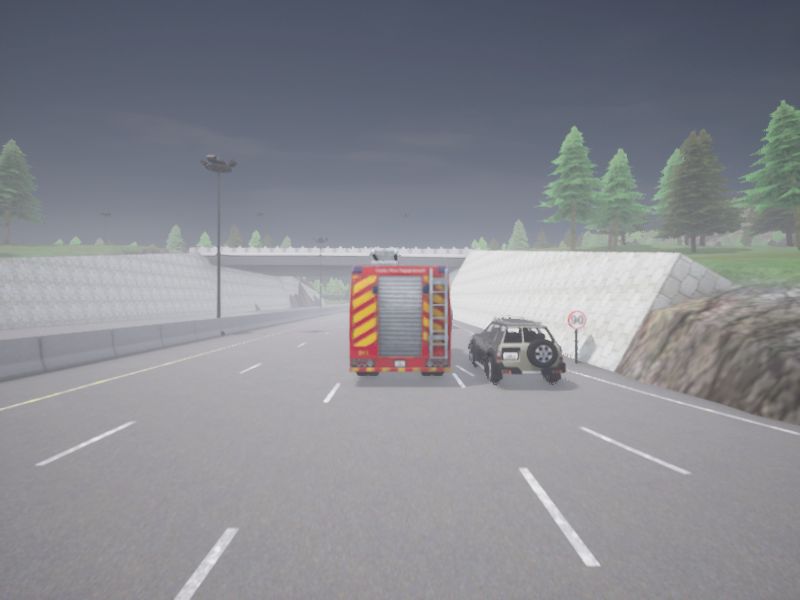vehicle: (349, 249, 450, 375), (468, 316, 565, 383)
